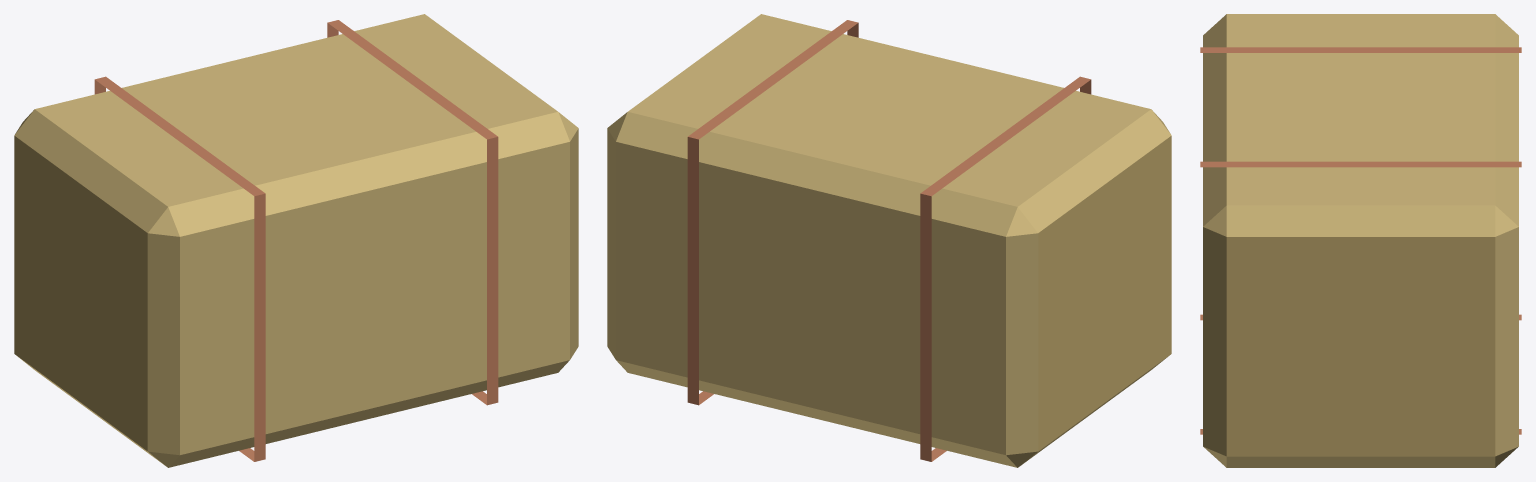
The model's file is hay_bale.glb.
3 views of the same model, side by side, from view 1: azimuth 30°, elevation 25°; view 2: azimuth 150°, elevation 25°; view 3: azimuth 270°, elevation 25° (orthographic).
Parts seen in each view (by area): view 1: hay_bale; view 2: hay_bale; view 3: hay_bale.
Boxes of the visible parts, x1=… form: hay_bale: x1=14, y1=14, x2=578, y2=467; hay_bale: x1=607, y1=14, x2=1171, y2=467; hay_bale: x1=1200, y1=14, x2=1521, y2=467.
Size of the model in its own units: 1.9 by 1.12 by 1.22.
